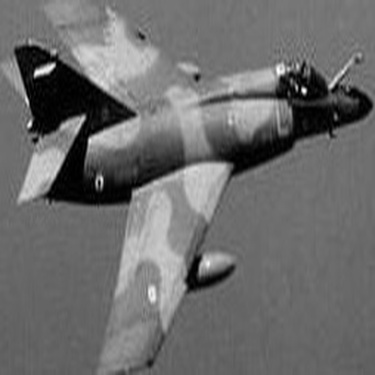airplane: (1, 6, 371, 369)
